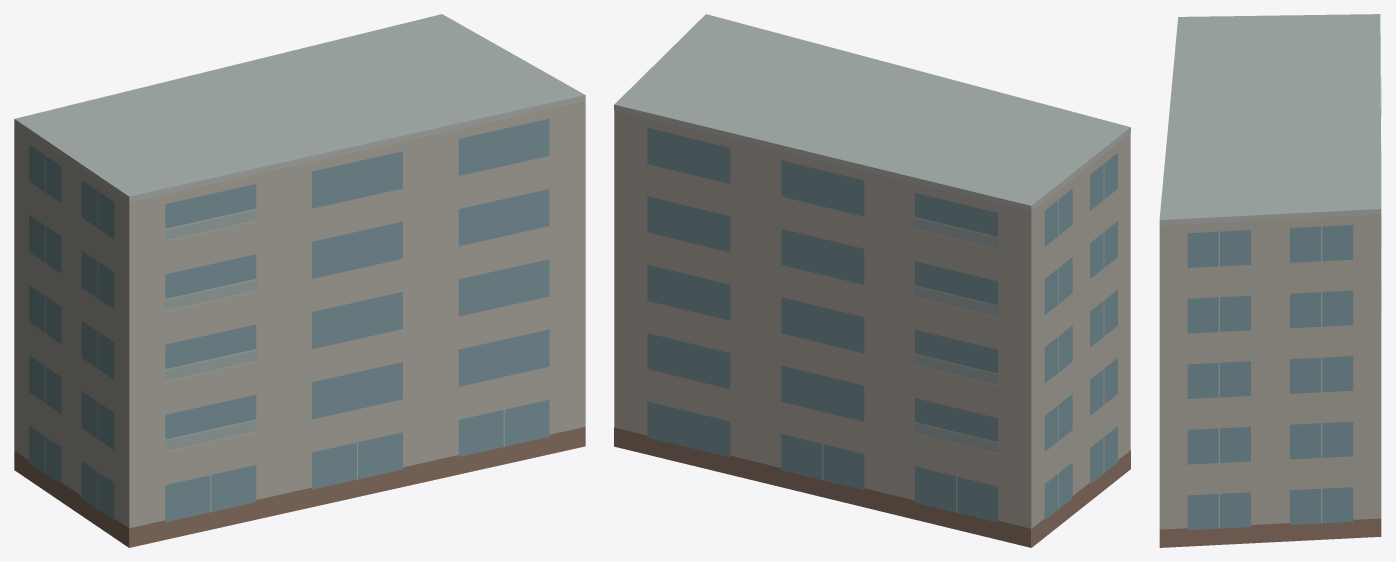
Rendered from survey-upis-32748889.glb.
3 views of the same model, side by side, from view 1: azimuth 30°, elevation 25°; view 2: azimuth 150°, elevation 25°; view 3: azimuth 270°, elevation 25° (orthographic). The views are drawn at different scales.
Parts seen in each view (by area): view 1: survey-upis-32748889.tmp; view 2: survey-upis-32748889.tmp; view 3: survey-upis-32748889.tmp.
Part boxes in pixels (x1,y1,x2,y2): survey-upis-32748889.tmp: (14, 14, 585, 547); survey-upis-32748889.tmp: (614, 14, 1130, 547); survey-upis-32748889.tmp: (1159, 14, 1381, 547).
Bounding box in the file's own units: 19.85 × 14.71 × 9.04.
